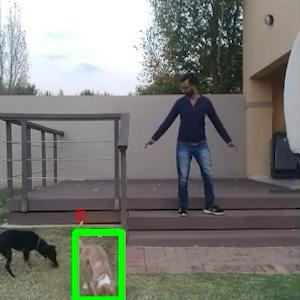land: (153, 73, 235, 226)
